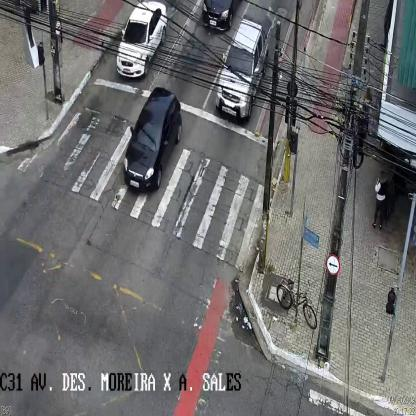bicycle: (276, 278, 317, 330)
car: (122, 87, 181, 194), (214, 18, 269, 121), (116, 5, 165, 79), (202, 0, 241, 30)
person: (372, 170, 388, 233)
